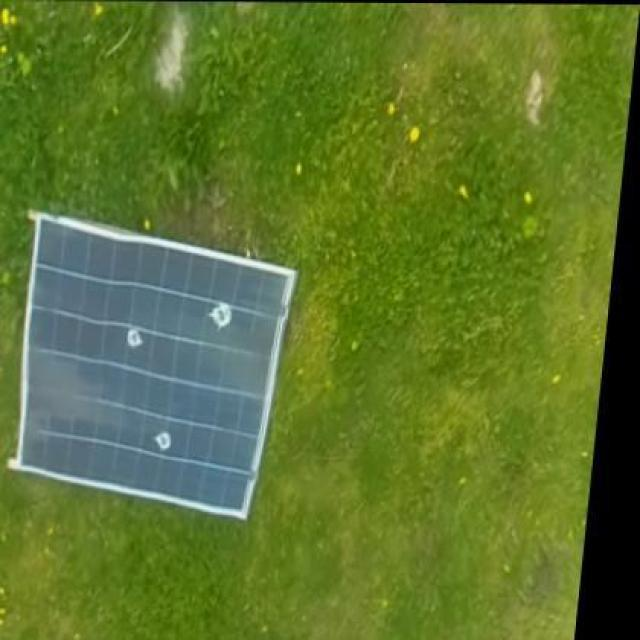soiled: (15, 212, 297, 522)
